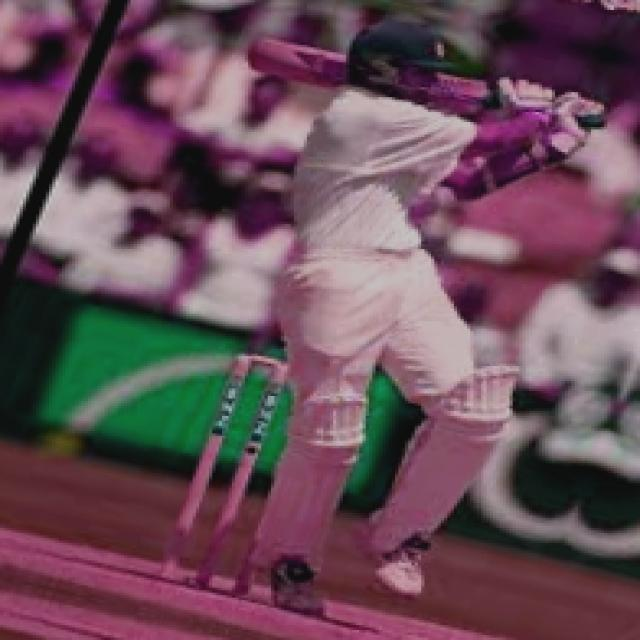toe: (247, 34, 265, 76)
